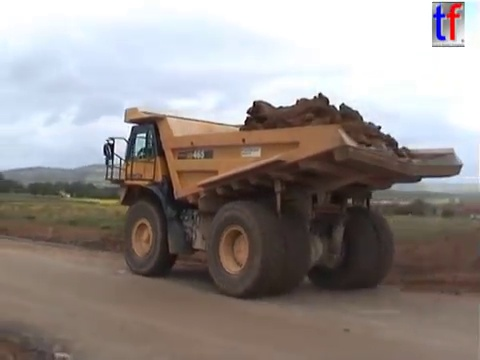truck: (100, 105, 466, 301)
